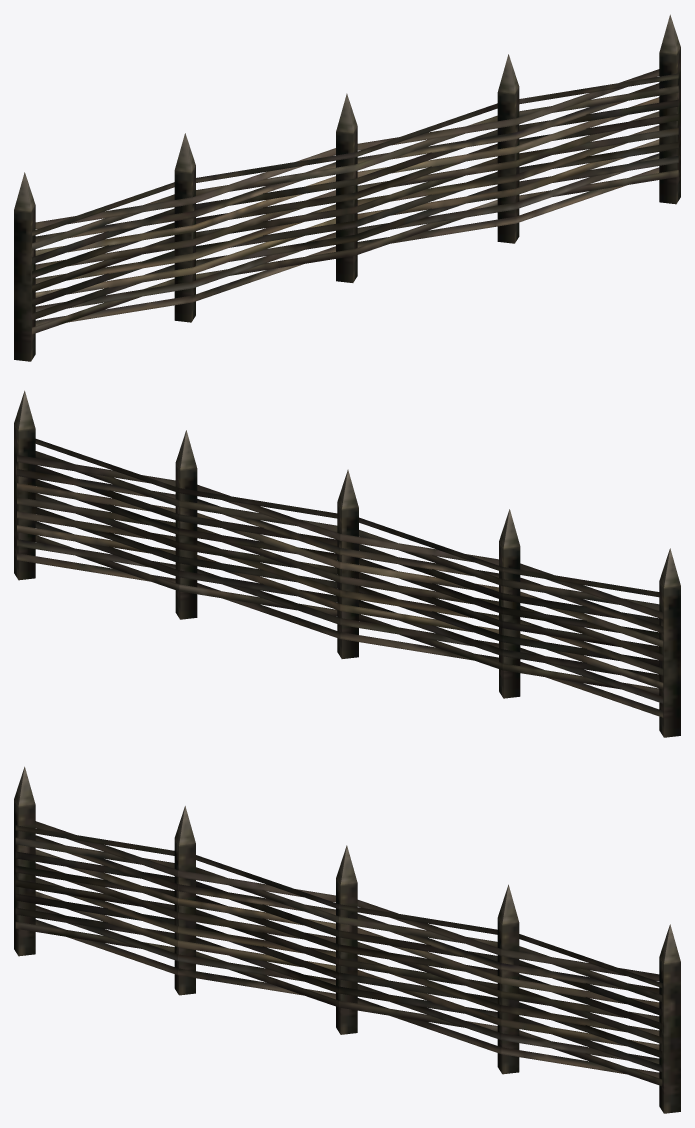
Rendered from stst117.dae.
The picture shows the model from 3 angles, top to bottom: view 1: azimuth 30°, elevation 25°; view 2: azimuth 150°, elevation 25°; view 3: azimuth 330°, elevation 25°; orthographic projection.
Parts seen in each view (by area): view 1: fence; view 2: fence; view 3: fence.
Boxes of the visible parts, x1,y1,x2,y2 form: fence: (14,14,680,361); fence: (14,390,680,737); fence: (14,766,680,1113).
Size of the model in its own units: 3.1 by 0.1266 by 0.823.
1 material, 1 textured.
